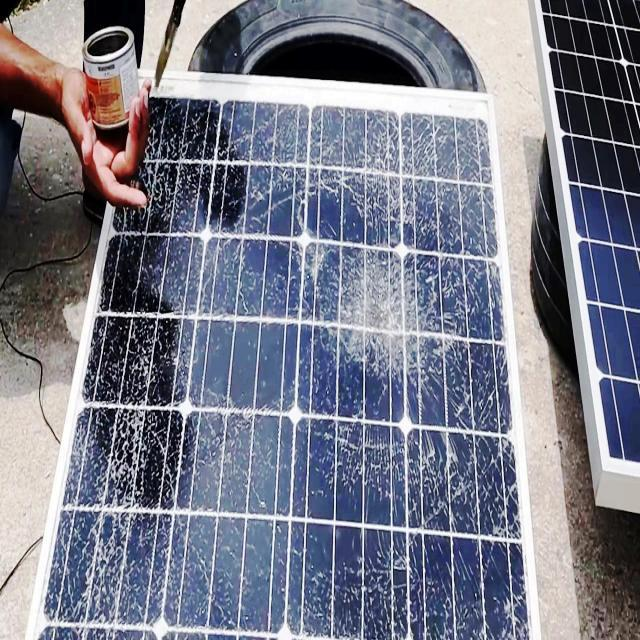faulty: (38, 63, 538, 637)
no faulty: (536, 2, 640, 471)
